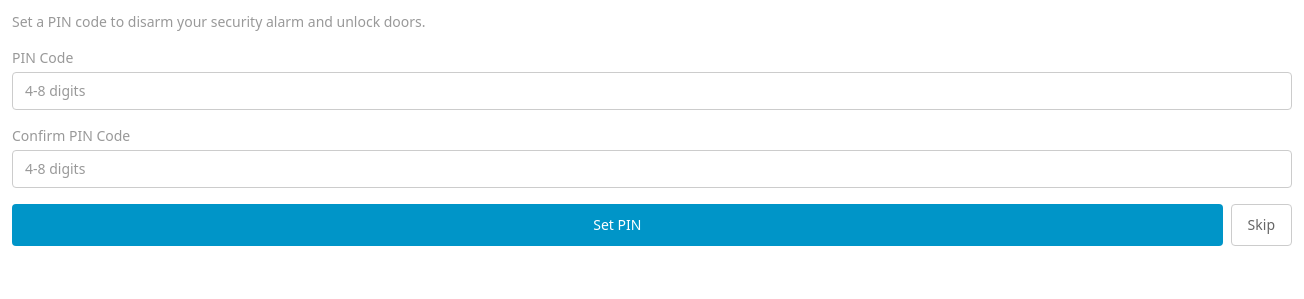
Test: ChangePinForm – validation › shows error when PIN is too short
Type "12" into the password field labelled "PIN Code".
click(652, 91); type("12")  # box top-left (12, 72), bottom-right (1292, 110)
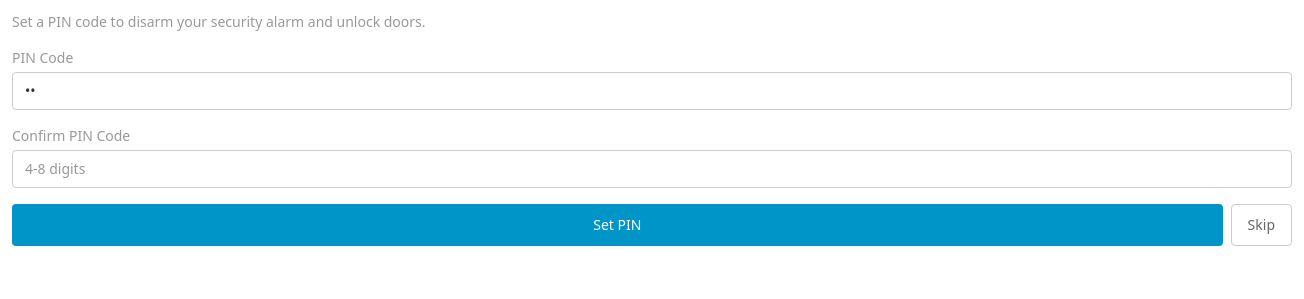
Type "12" into the password field labelled "Confirm PIN Code".
click(652, 169); type("12")  # box top-left (12, 150), bottom-right (1292, 188)
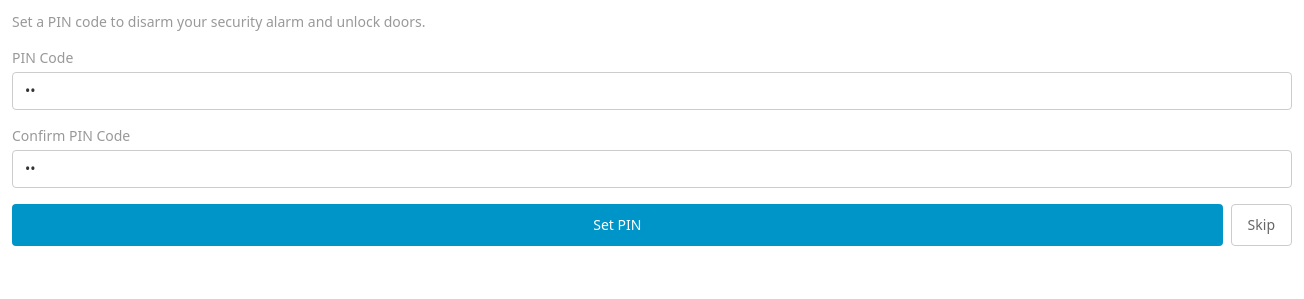
Click the button "Set PIN".
click(617, 225)  # box top-left (12, 204), bottom-right (1223, 246)
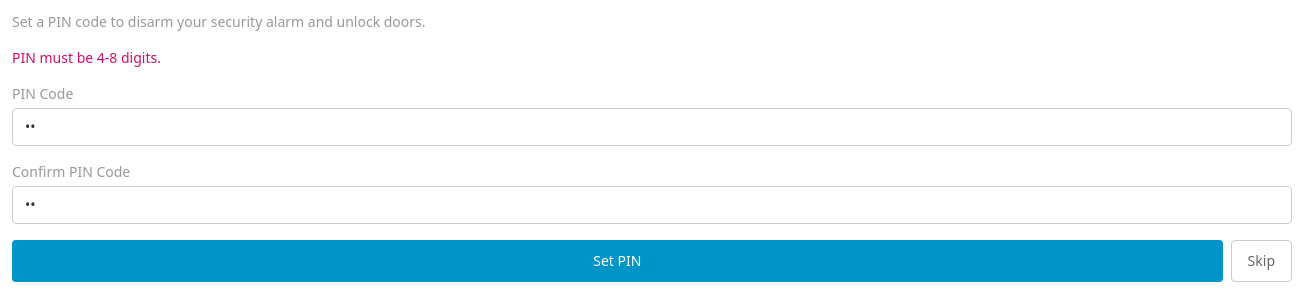
Result: the text "PIN must be 4-8 digits." is shown at top-left (12, 48), bottom-right (161, 67)
